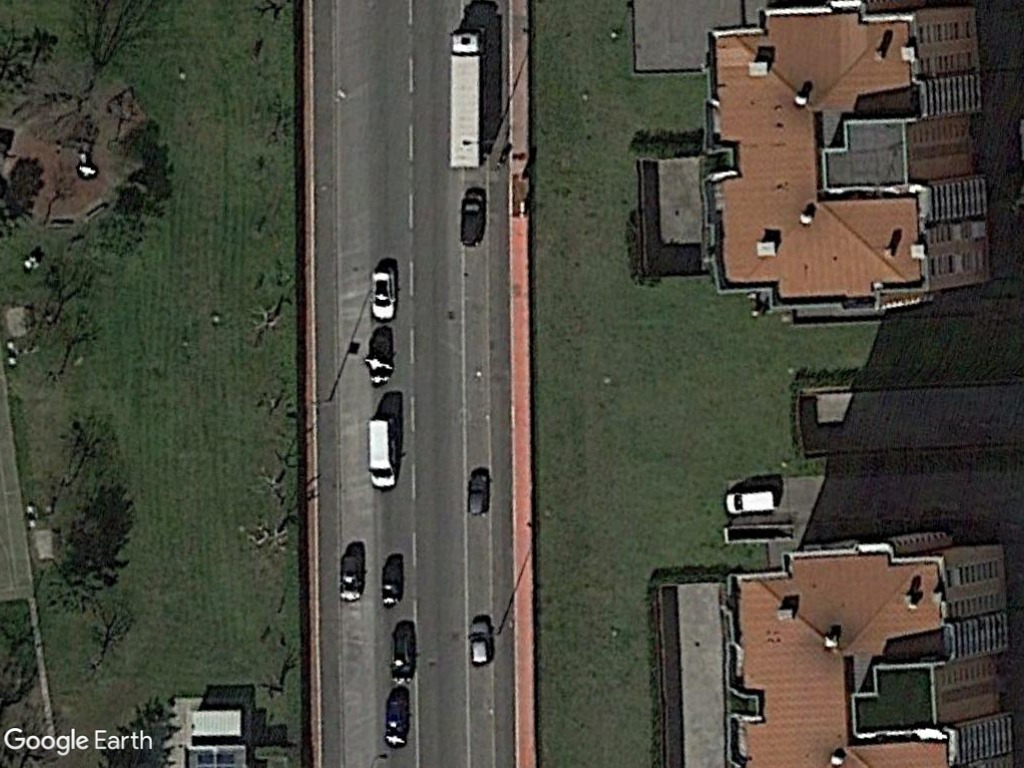car: (367, 263, 399, 321), (469, 618, 494, 667)
longvehicle: (446, 28, 486, 173)
van: (362, 415, 401, 492), (720, 485, 782, 517)
